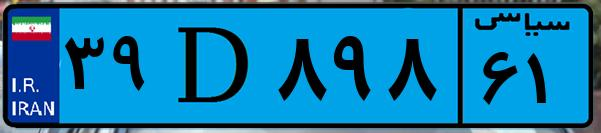1: (525, 38, 570, 115)
3: (57, 26, 110, 100)
6: (475, 38, 525, 113)
8: (270, 28, 330, 110), (385, 28, 445, 110)
9: (330, 28, 385, 110), (110, 28, 158, 98)
D: (158, 12, 270, 120)
